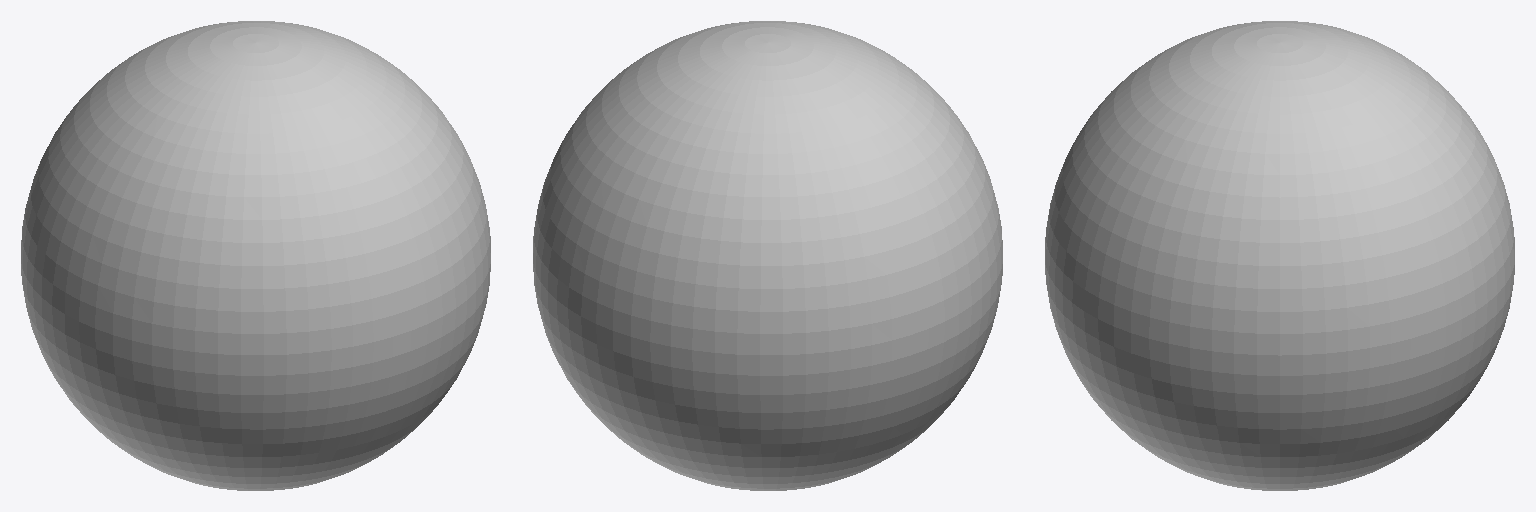
The model's file is Project Name.obj.
The picture shows the model from 3 angles: view 1: azimuth 30°, elevation 25°; view 2: azimuth 150°, elevation 25°; view 3: azimuth 270°, elevation 25°; orthographic projection.
Visible parts, largest first — view 1: 000_Sphere; view 2: 000_Sphere; view 3: 000_Sphere.
Part boxes in pixels (bbox=[...]): 000_Sphere: bbox=[21, 21, 490, 490]; 000_Sphere: bbox=[533, 21, 1002, 490]; 000_Sphere: bbox=[1045, 21, 1514, 490].
Size of the model in its own units: 100 by 100 by 100.